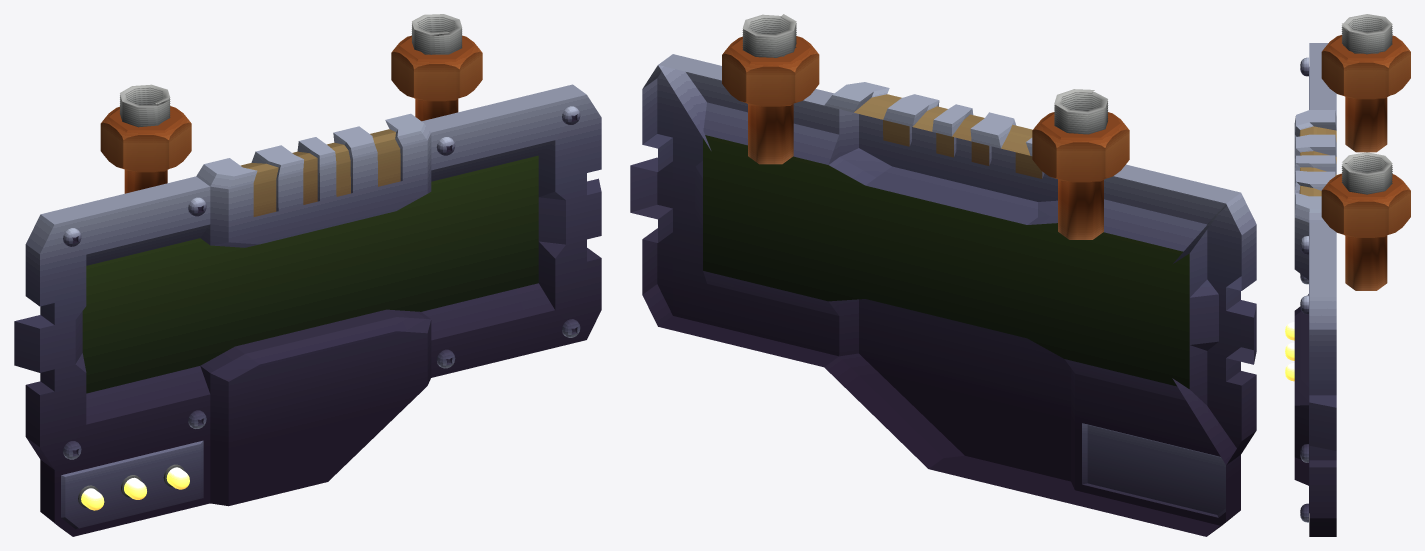
File: pda.fbx
3 views of the same model, side by side, from view 1: azimuth 30°, elevation 25°; view 2: azimuth 150°, elevation 25°; view 3: azimuth 270°, elevation 25° (orthographic). The views are drawn at different scales.
Parts seen in each view (by area): view 1: PDA, nut.001, screw_threads2.002, bolt2.001, LED; view 2: PDA, nut.001, screw_threads2.002; view 3: PDA, nut.001, screw_threads2.002, bolt2.001, LED.
Part boxes in pixels (x1,y1,x2,y2): PDA: (14, 84, 601, 536); nut.001: (100, 35, 482, 193); screw_threads2.002: (119, 14, 462, 127); bolt2.001: (63, 106, 580, 459); LED: (78, 464, 189, 510); PDA: (630, 54, 1256, 536); nut.001: (722, 36, 1129, 239); screw_threads2.002: (742, 14, 1108, 134); PDA: (1294, 43, 1336, 536); nut.001: (1321, 35, 1410, 290); screw_threads2.002: (1341, 14, 1392, 194); bolt2.001: (1300, 57, 1308, 522); LED: (1285, 322, 1294, 381).
Bounding box in the file's own units: 1106 × 716 × 211.
